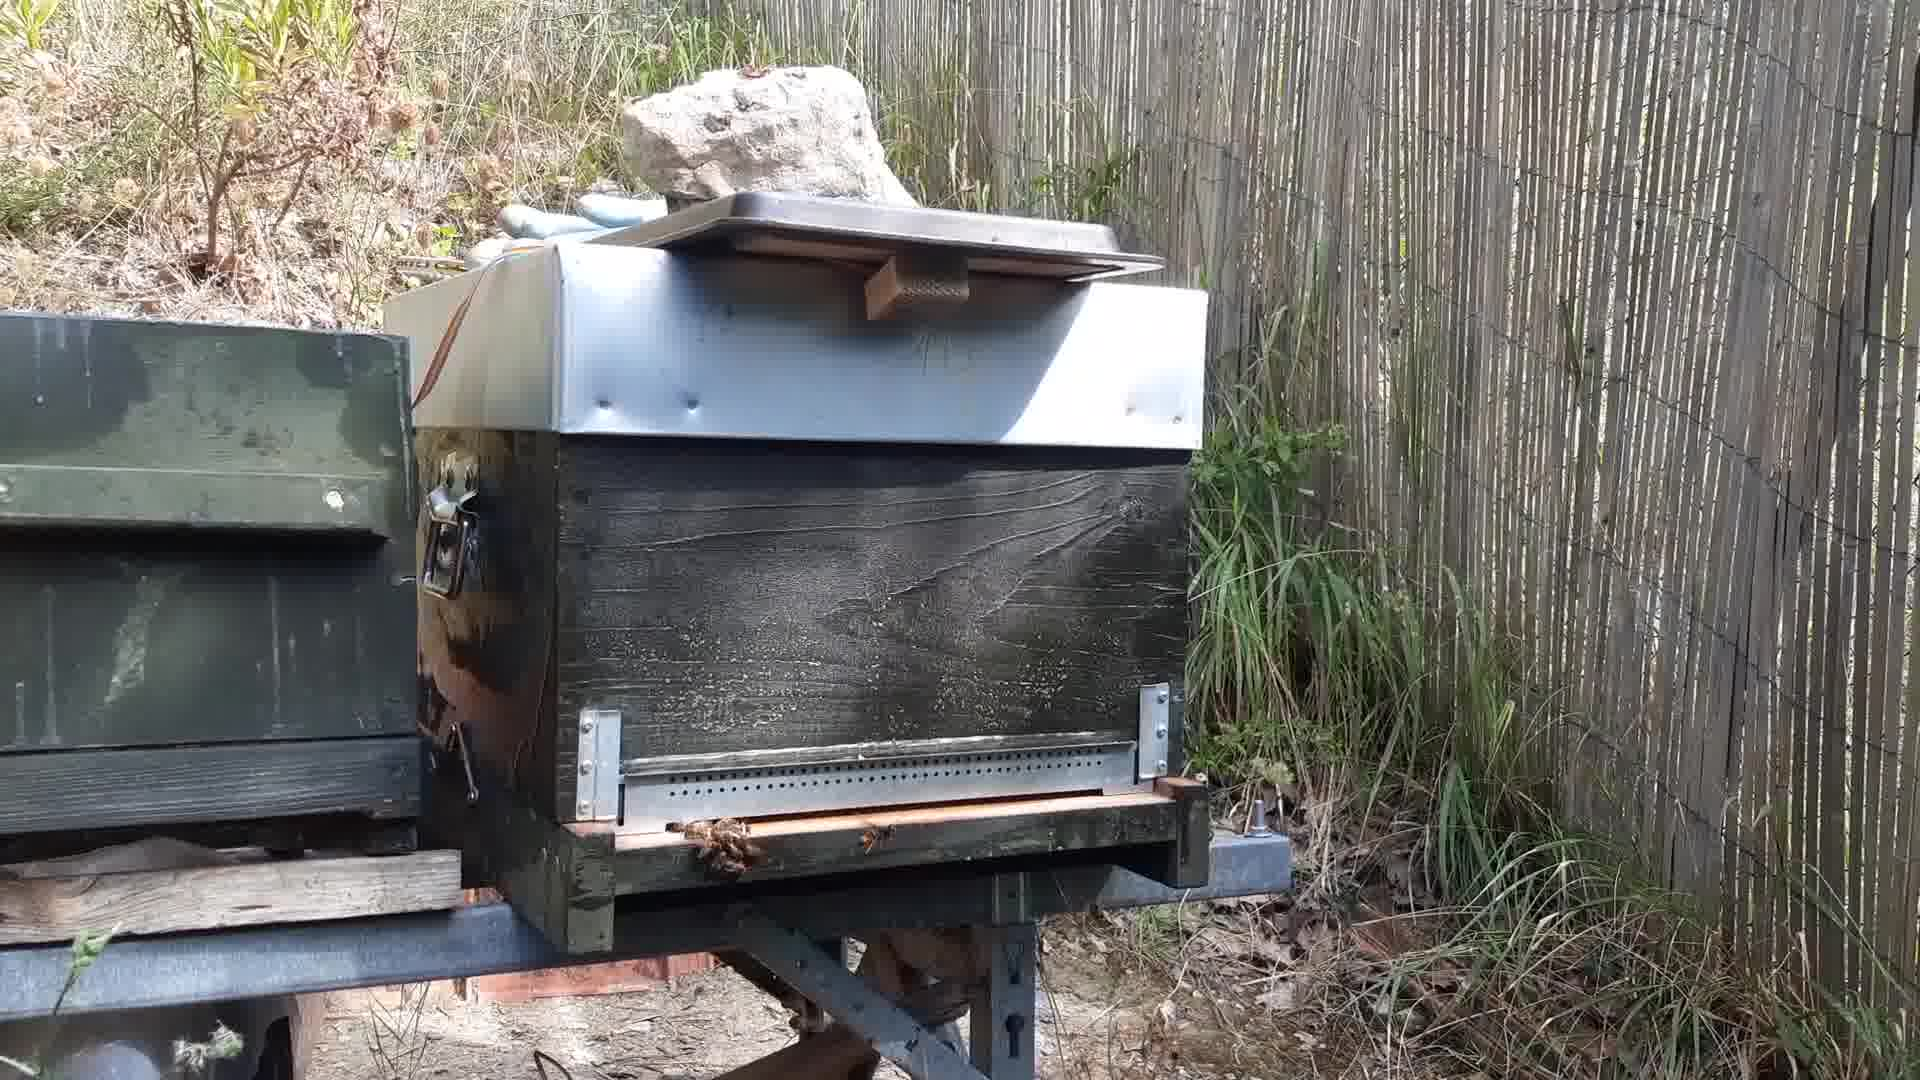bee: (687, 814, 767, 884)
hornet: (855, 822, 901, 853)
